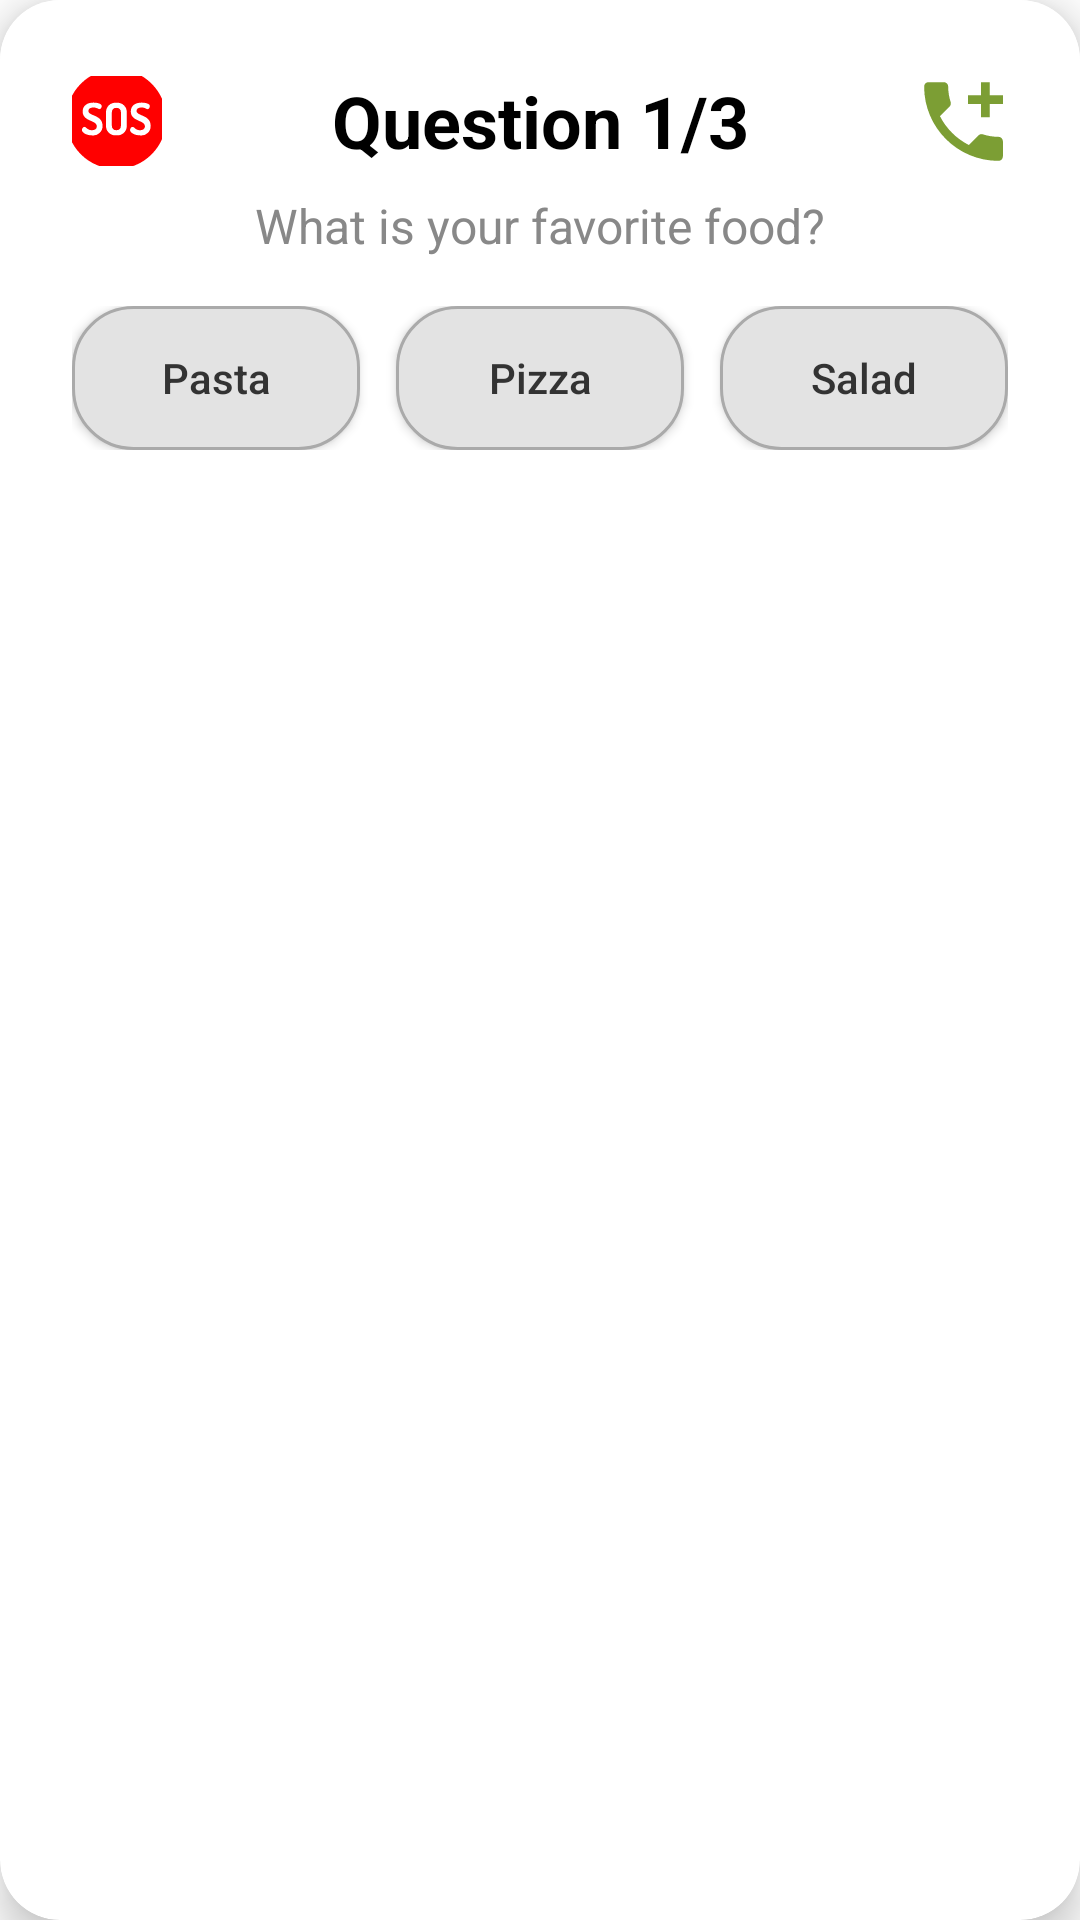

Where to tap for icons on this 1080x1920 app screen, as (x,y):
call: (963,121)
